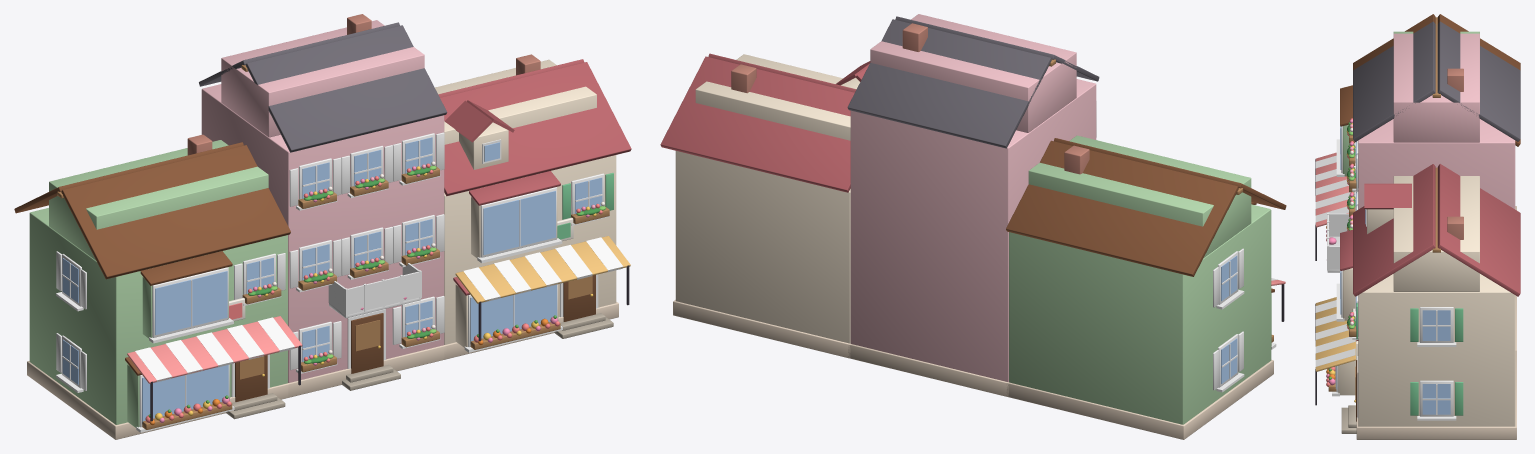
The model's file is terrace_a.glb.
3 views of the same model, side by side, from view 1: azimuth 30°, elevation 25°; view 2: azimuth 150°, elevation 25°; view 3: azimuth 270°, elevation 25° (orthographic). The views are drawn at different scales.
Parts seen in each view (by area): view 1: terrace_a; view 2: terrace_a; view 3: terrace_a.
Part boxes in pixels (x1,y1,x2,y2): terrace_a: (14,14,631,439); terrace_a: (660,14,1286,439); terrace_a: (1315,14,1520,439).
Bounding box in the file's own units: 19.6 × 10.95 × 7.32.
